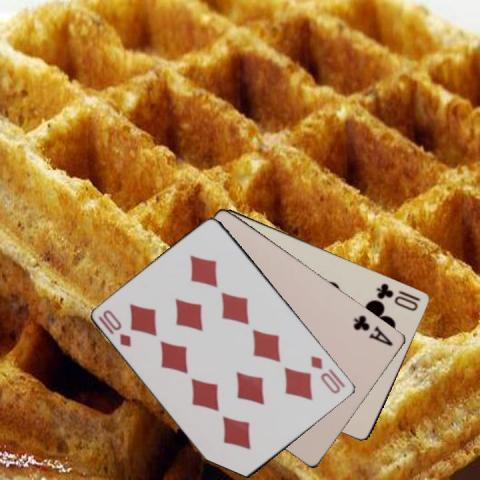10c: (373, 280, 422, 313)
10d: (307, 352, 343, 395), (100, 306, 133, 348)
Ac: (350, 312, 394, 347)
